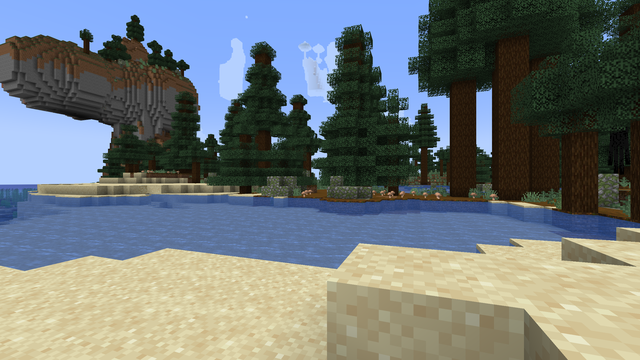endermens: (608, 136, 629, 173)
